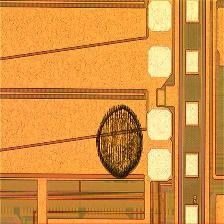PARTICLE: (95, 102, 148, 182)
